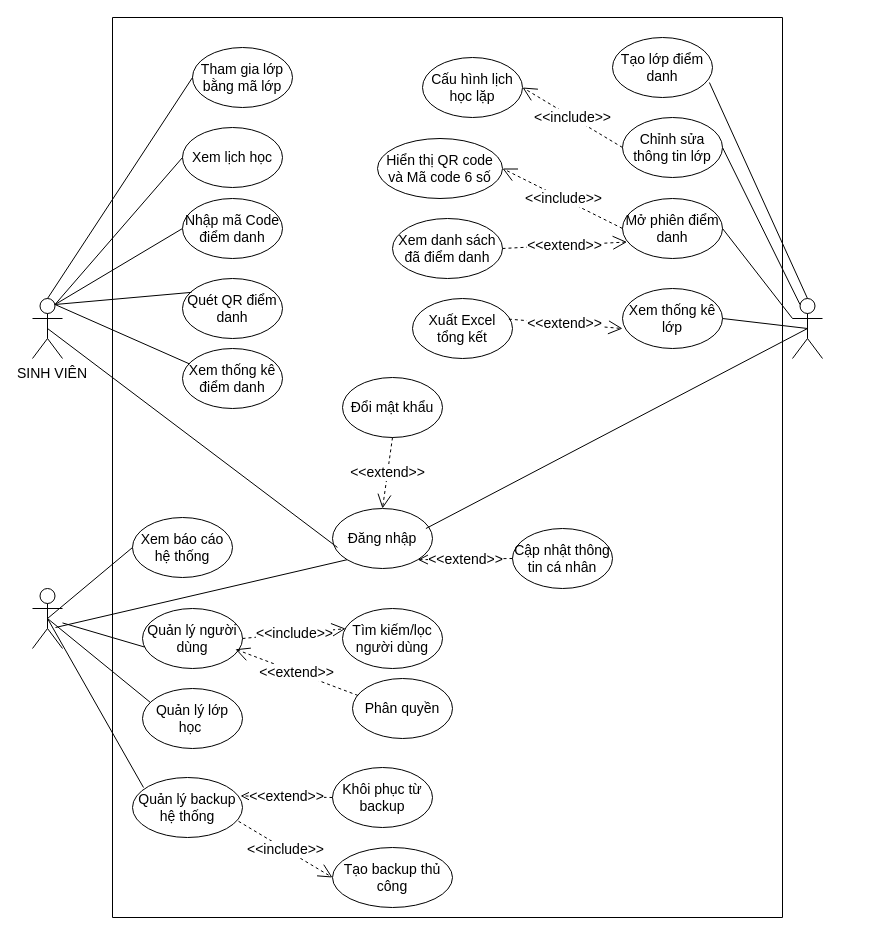
This 891x935 diagram has some shape labels left out. Here are the shapes that lost their labels. From the top down, the centre of each, then its label:
point 807,328: GIÁO VIÊN
point 47,618: ADMIN
